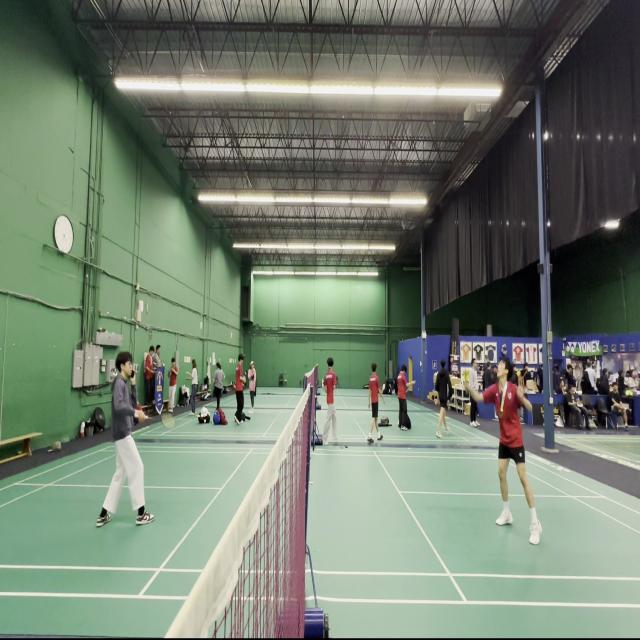shuttlecock: (355, 284, 364, 292)
